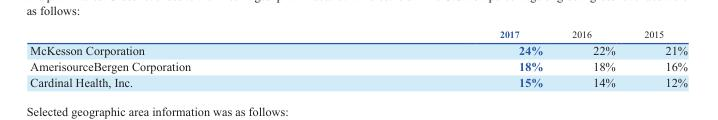table: (29, 28, 687, 88)
table column: (29, 28, 344, 88), (344, 28, 556, 88), (556, 28, 629, 88), (629, 28, 687, 88)
table column header: (29, 28, 687, 41)
table row: (29, 41, 687, 57), (29, 57, 687, 73), (29, 73, 687, 88), (29, 28, 687, 41)
